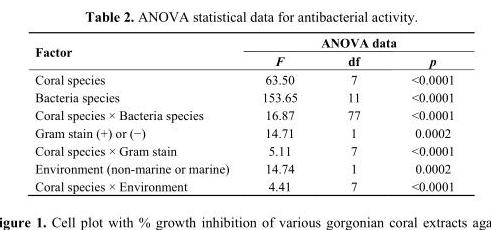table: (34, 34, 454, 193)
table column: (34, 34, 244, 193), (244, 34, 321, 193), (385, 34, 454, 193), (321, 34, 385, 193)
table column header: (34, 34, 454, 69)
table row: (34, 51, 454, 69), (34, 69, 454, 87), (34, 87, 454, 105), (34, 105, 454, 123), (34, 123, 454, 141), (34, 141, 454, 159), (34, 159, 454, 177), (34, 34, 454, 51), (34, 177, 454, 193)
table spanning cell: (34, 34, 244, 69), (244, 34, 454, 51)
